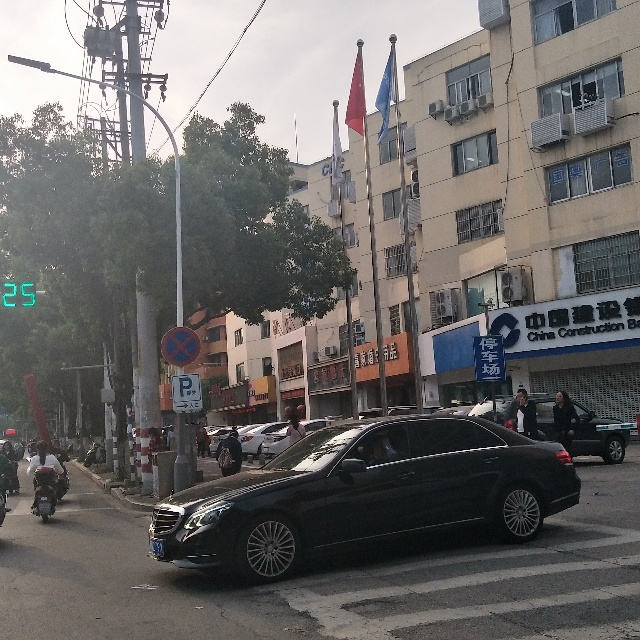stop: (165, 328, 199, 365)
